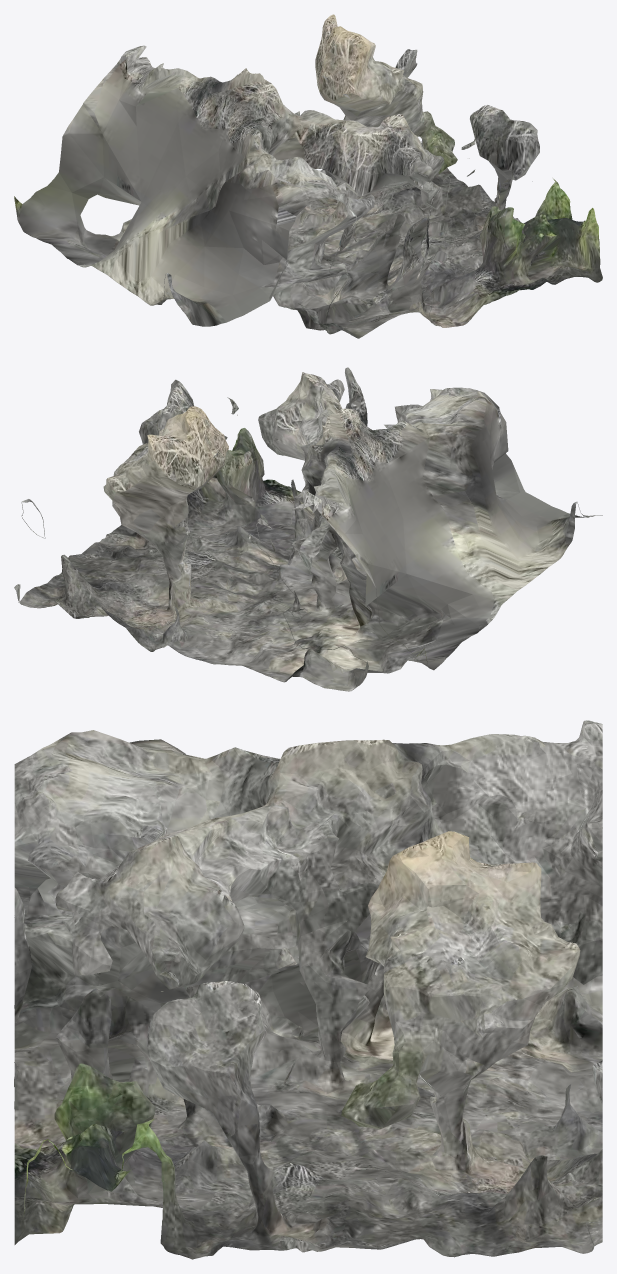
Rendered from Block_L20_340.glb.
3 views of the same model, one above another, from view 1: azimuth 30°, elevation 25°; view 2: azimuth 150°, elevation 25°; view 3: azimuth 270°, elevation 25° (orthographic). The views are drawn at different scales.
Parts seen in each view (by area): view 1: rtc; view 2: rtc; view 3: rtc.
Part boxes in pixels (bbox=[...]): rtc: bbox=[14, 14, 602, 338]; rtc: bbox=[14, 367, 602, 691]; rtc: bbox=[14, 720, 602, 1259].
Bounding box in the file's own units: 23.48 × 11.32 × 17.67.
5 materials, 5 textured.
